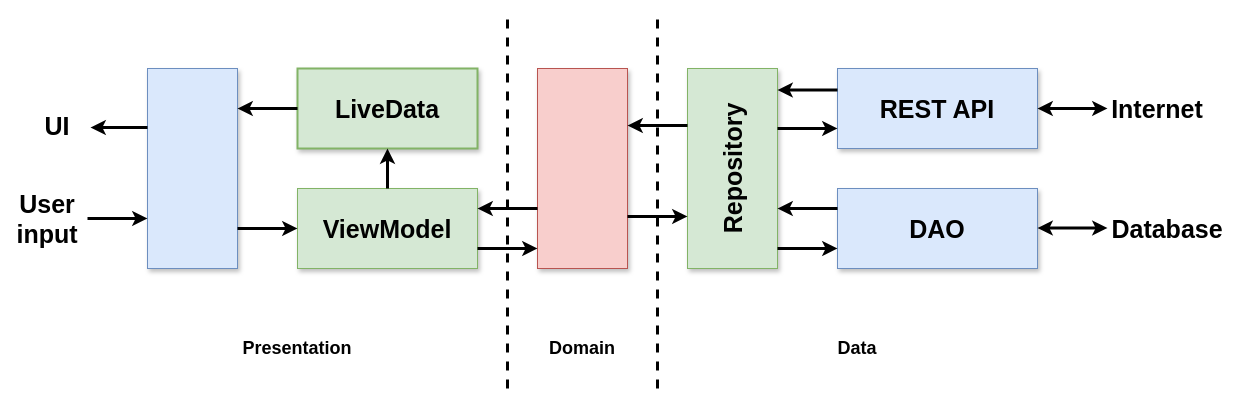
Some shapes in this 1240 by 408 pixel diagram are drawn without their labels. The shapes that lost their labels are listed below. From the top down, each one's centre as x and y in pixels, then its label:
the point at 193,170: View
the point at 583,170: Interactor
